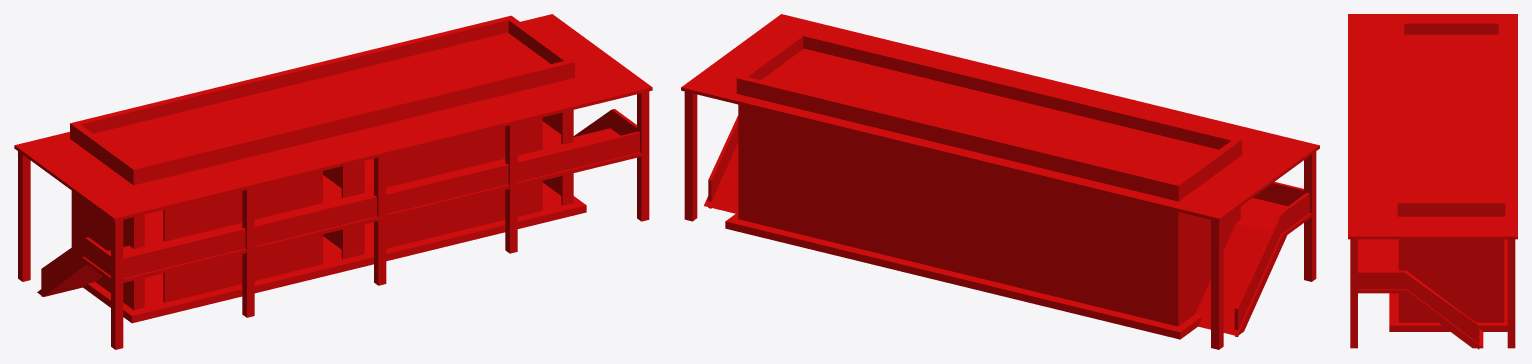
The model's file is SM_Bld_Motel_01_Collision.fbx.
The picture shows the model from 3 angles, left to right: view 1: azimuth 30°, elevation 25°; view 2: azimuth 150°, elevation 25°; view 3: azimuth 270°, elevation 25°; orthographic projection. The views are drawn at different scales.
Visible parts, largest first — view 1: SM_Bld_Motel_01_Collision; view 2: SM_Bld_Motel_01_Collision; view 3: SM_Bld_Motel_01_Collision.
Part boxes in pixels (bbox=[...]): SM_Bld_Motel_01_Collision: bbox=[14, 14, 652, 349]; SM_Bld_Motel_01_Collision: bbox=[681, 14, 1319, 349]; SM_Bld_Motel_01_Collision: bbox=[1348, 14, 1517, 349].
Size of the model in its own units: 2761 by 743 by 891.
